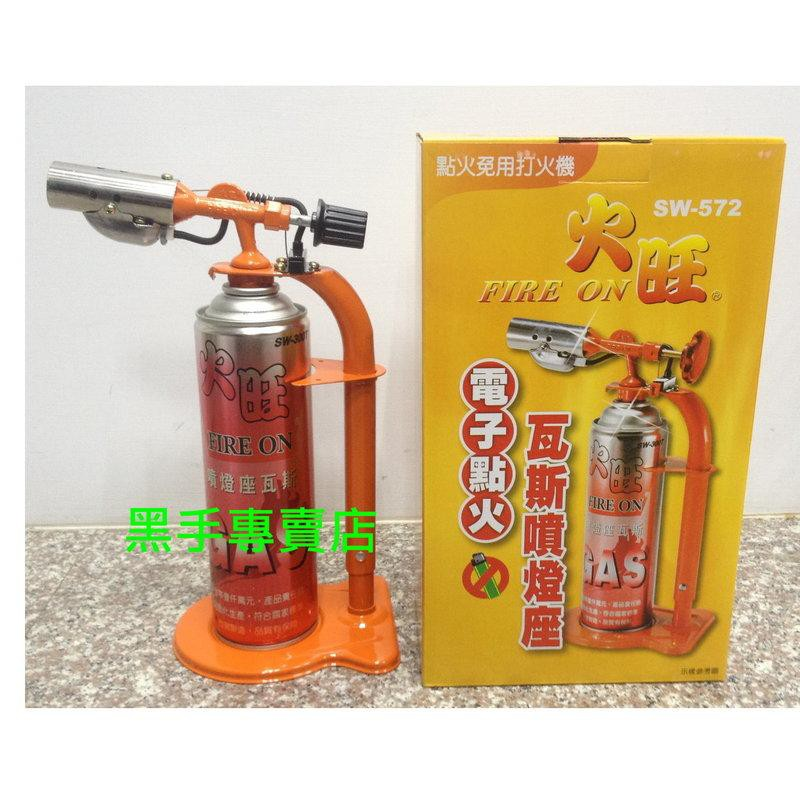gastorch: (44, 155, 415, 680), (506, 317, 724, 659)
